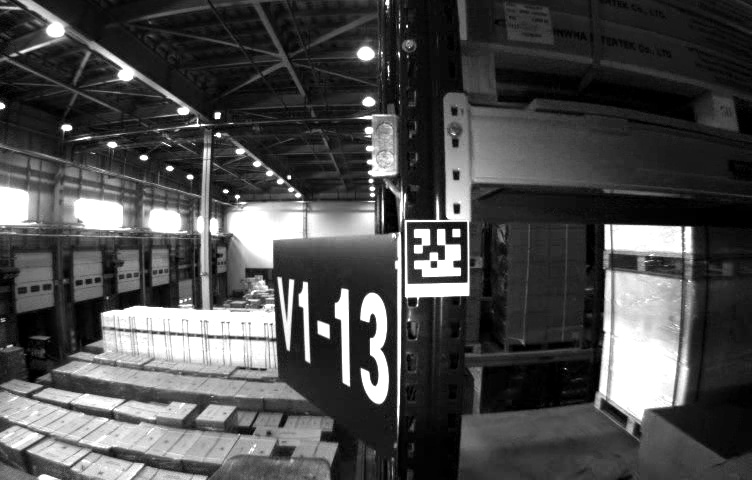True Barcode: (503, 2, 553, 44)
